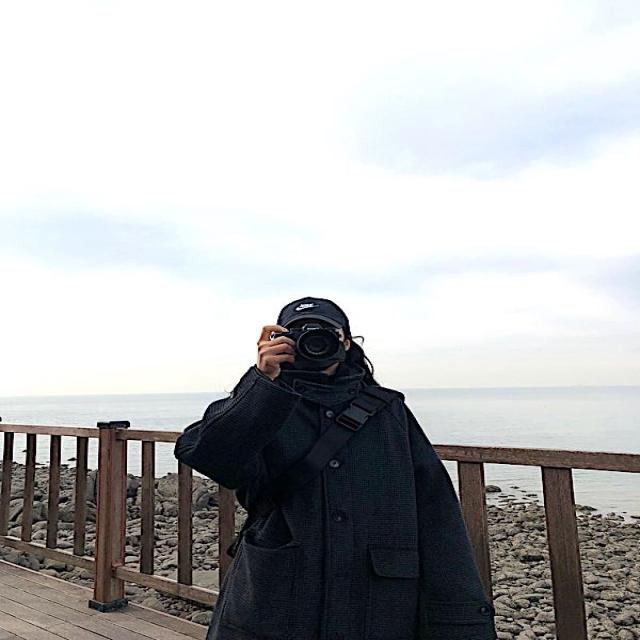coat: (170, 361, 492, 640)
